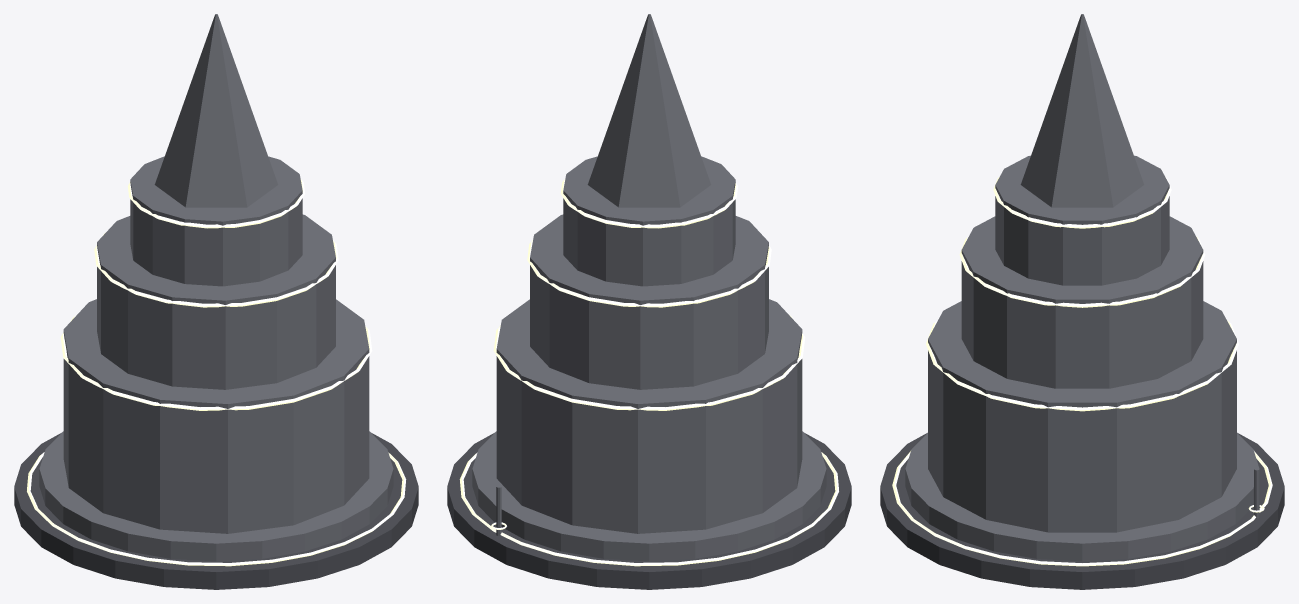
Rendered from zone_high_6_t1.glb.
3 views of the same model, side by side, from view 1: azimuth 30°, elevation 25°; view 2: azimuth 150°, elevation 25°; view 3: azimuth 270°, elevation 25° (orthographic).
Visible parts, largest first — view 1: zone_high_6_t1; view 2: zone_high_6_t1; view 3: zone_high_6_t1.
Boxes of the visible parts, <box> form: zone_high_6_t1: <box>14,14,418,589</box>; zone_high_6_t1: <box>447,14,851,589</box>; zone_high_6_t1: <box>880,14,1284,589</box>.
Bounding box in the file's own units: 28.8 × 38.48 × 28.8.
